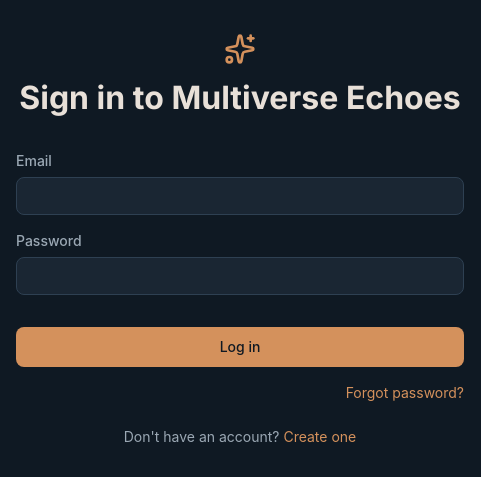
class C: the login page shows the server error, with its fixed string as the fallback › shows the code's text
The width and height of the screenshot is (481, 477).
In the field labelled "Email": (240, 196) [16,177,464,215], type "a@b.c"
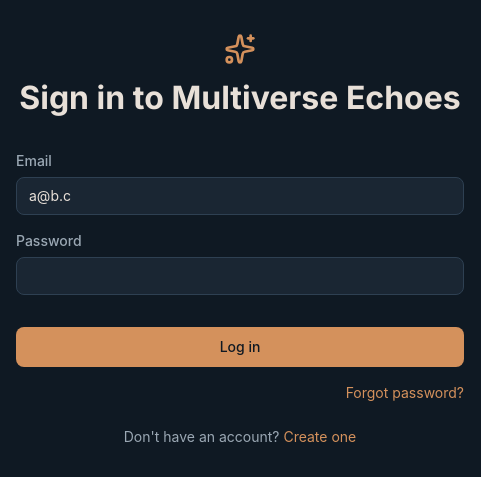
In the password field labelled "Password": (240, 276) [16,257,464,295], type "password-123"
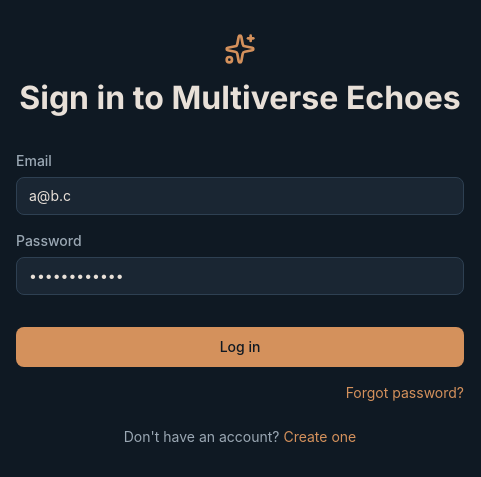
Click the button "Log in": (240, 347) [16,327,464,367]
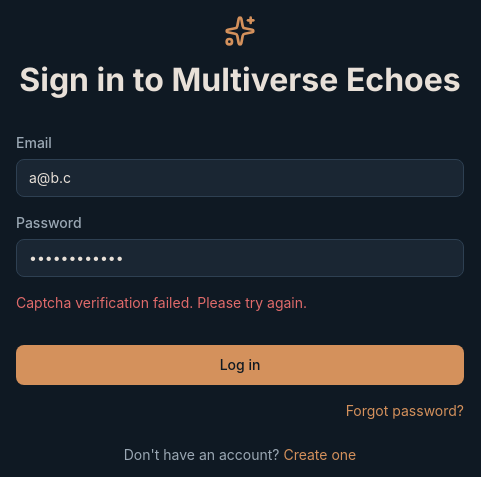
Check: the text "Captcha verification failed. Please try again." is shown, box [16,294,307,311]
